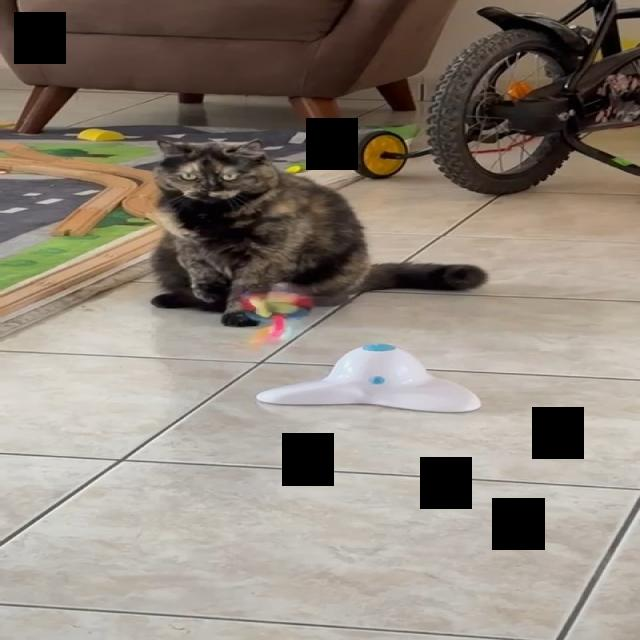authorized: (147, 138, 488, 328)
